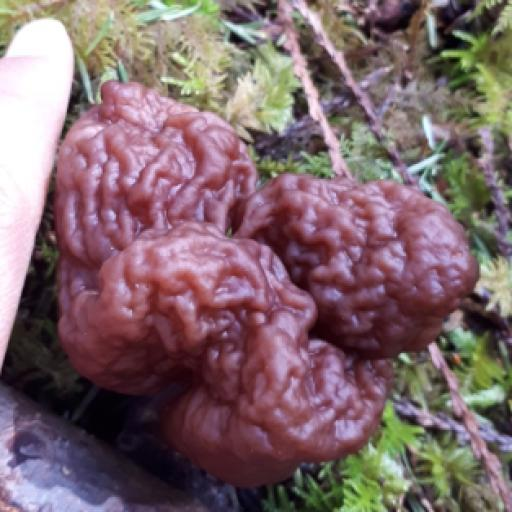mushroom: (223, 105, 507, 395), (0, 39, 277, 313), (0, 0, 1, 1)
